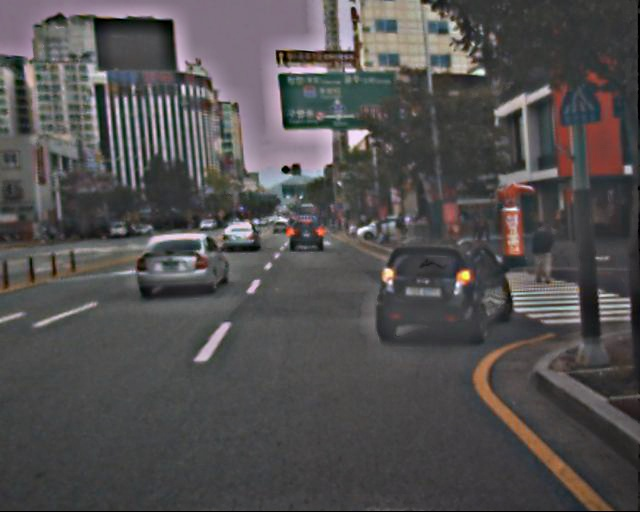person: (529, 220, 556, 287), (474, 212, 495, 248)
